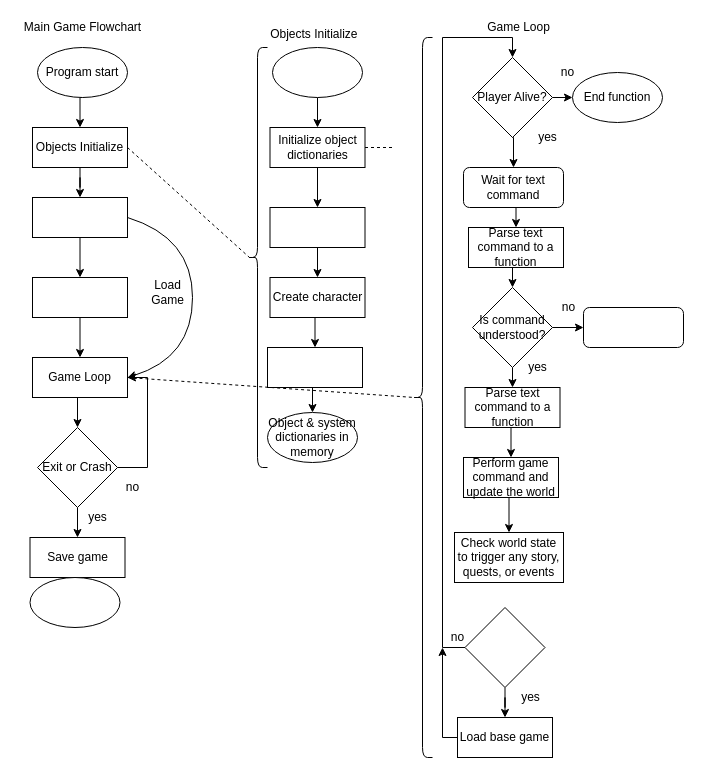
This 701x775 diagram has some shape labels left out. The centre of each missing label's shape, as x and y in pixels:
Code Import: [317,72]
Initialize system dictionaries: [317,227]
New Game setup: [80,297]
Player entering nested game?: [504,647]
Program end: [74,602]
Setup save path: [314,367]
Start Screen: [80,217]
Tell player not understood: [633,327]
